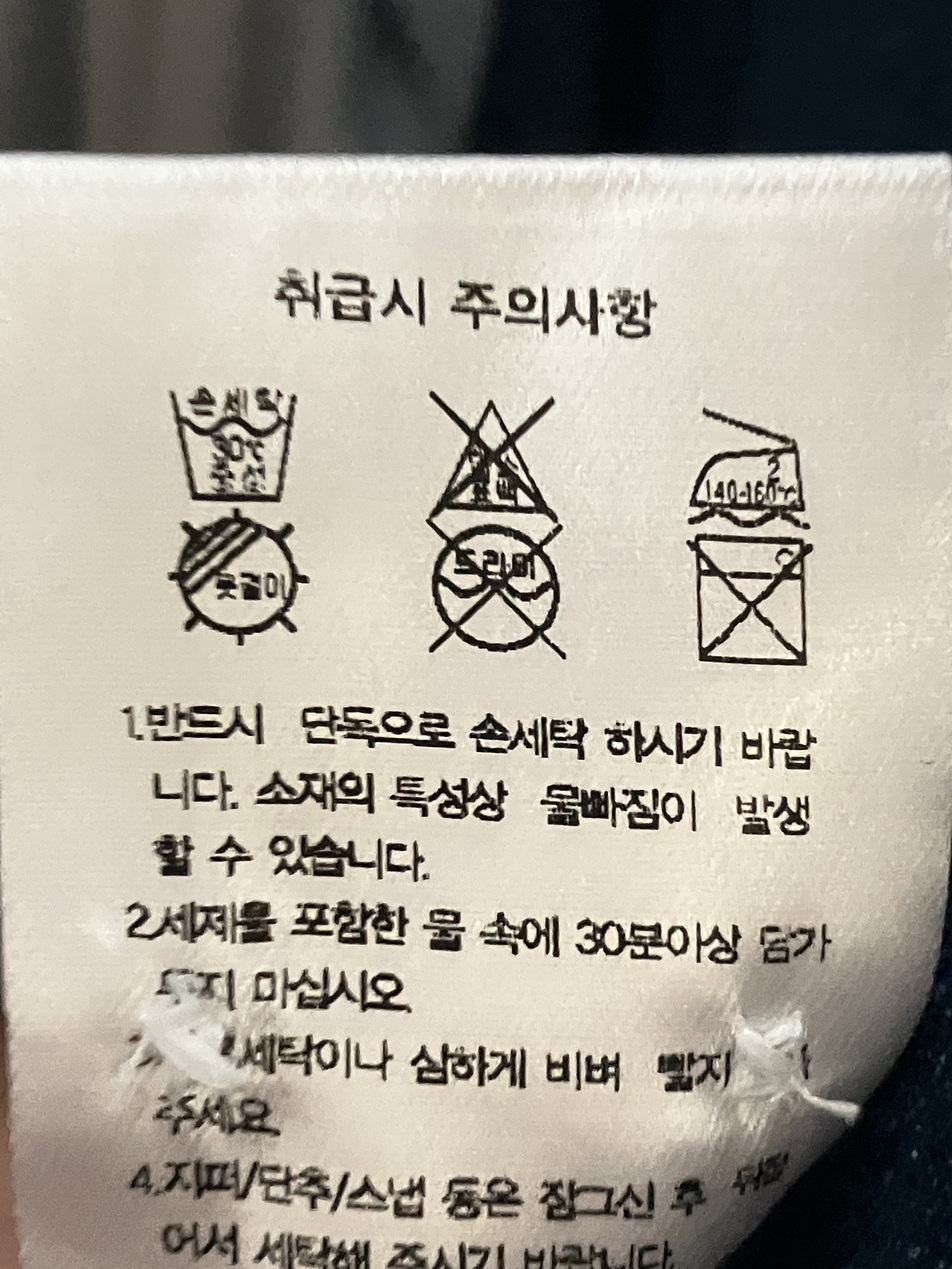KR_hand_wash_30_neutral: (151, 369, 313, 507)
KR_hang_dry_in_shade: (158, 504, 312, 650)
KR_iron_medium_temp_with_cloth: (678, 390, 815, 531)
KR_no_chlorine_bleach: (416, 378, 562, 520)
KR_no_dry_clean: (414, 519, 580, 673)
